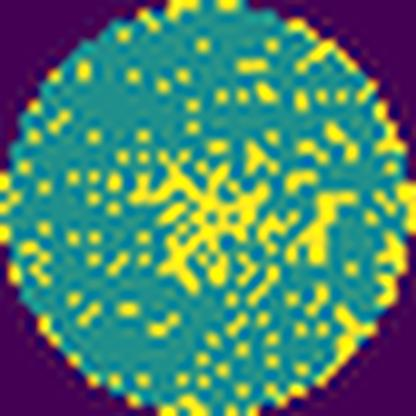Edge-Loc: (127, 147, 268, 293), (284, 190, 356, 267)
